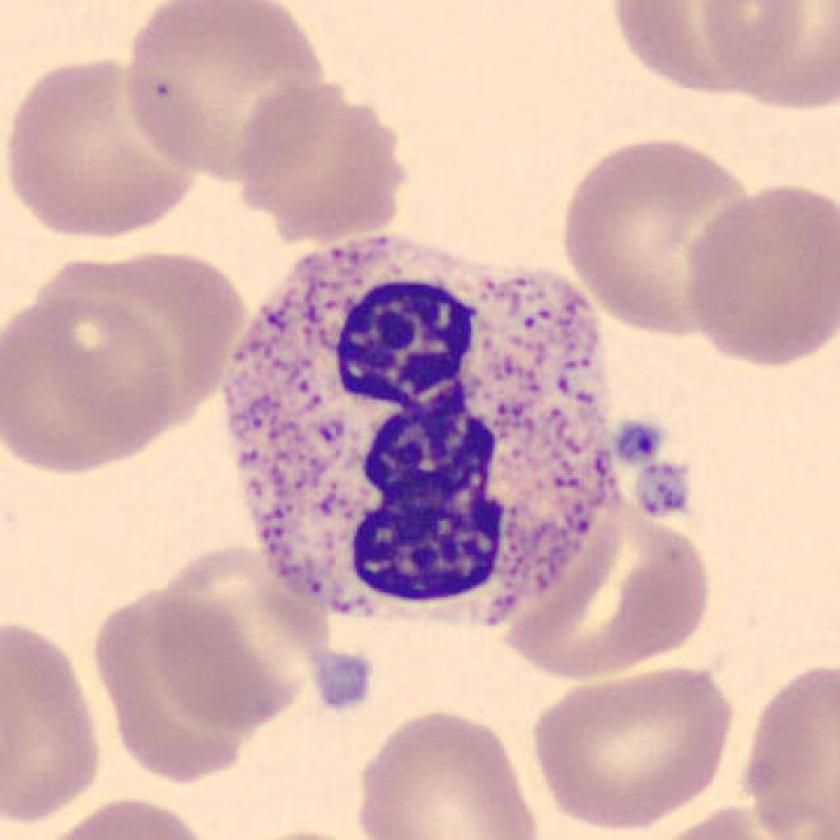neutrophil: (230, 239, 617, 629)
